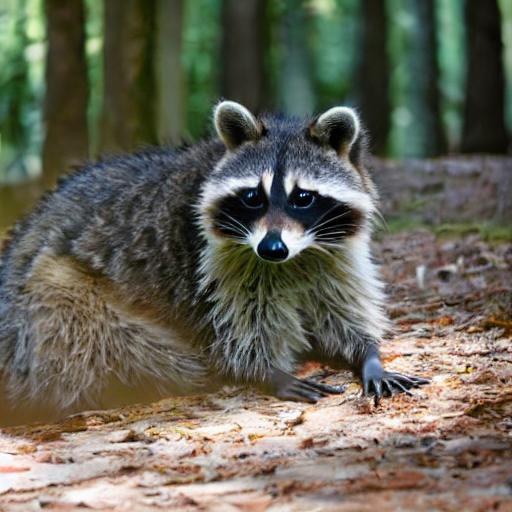raccoon: (0, 98, 389, 408)
